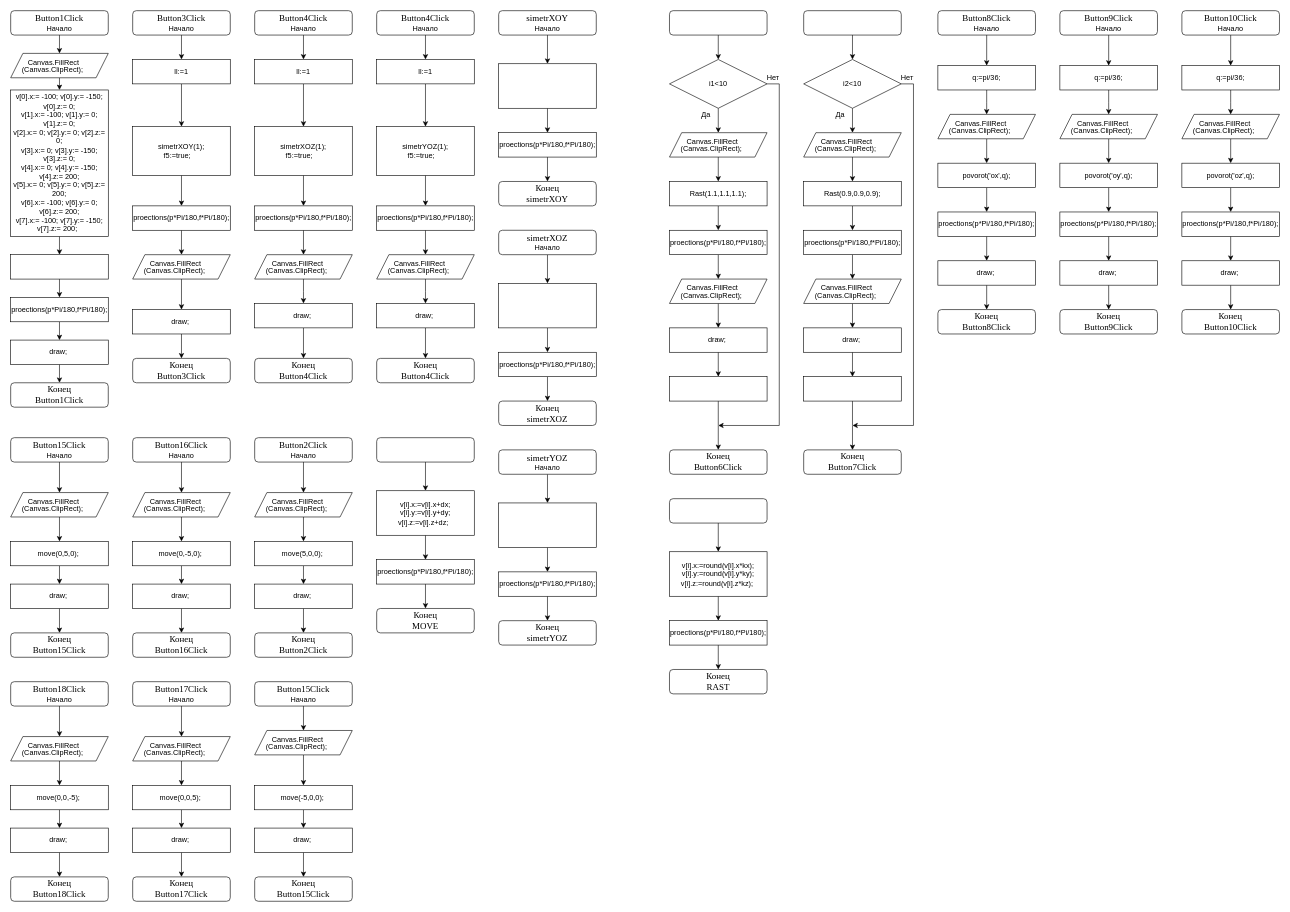
The diagram is 1290 pixels wide and 912 high, and some of its shapes have lost their labels. The box of each missing label's shape, as (x1, y1, x2, y2) in pixels:
Button6Click Начало: (669, 10, 767, 35)
Button7Click Начало: (803, 10, 901, 35)
i1:=i1+1; i2:=i2-1;: (669, 376, 767, 401)
i1:=i1-1; i2:=i2+1;: (803, 376, 901, 401)
MOVE Начало: (376, 437, 474, 462)
RAST Начало: (669, 498, 767, 523)
v[i].x:=-v[i].x; v[i].y:=v[i].y; v[i].z:=v[i].z;: (498, 502, 596, 547)
v[i].x:=v[i].x; v[i].y:=-v[i].y; v[i].z:=v[i].z;: (498, 283, 596, 328)
v[i].x:=v[i].x; v[i].y:=v[i].y; v[i].z:=-v[i].z;: (498, 63, 596, 108)
xx:=1110; xy:=500;: (10, 254, 108, 279)
